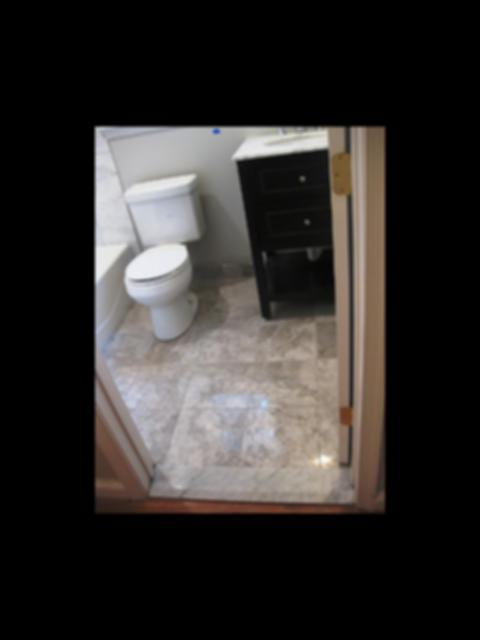Sanitario: (122, 159, 195, 346)
